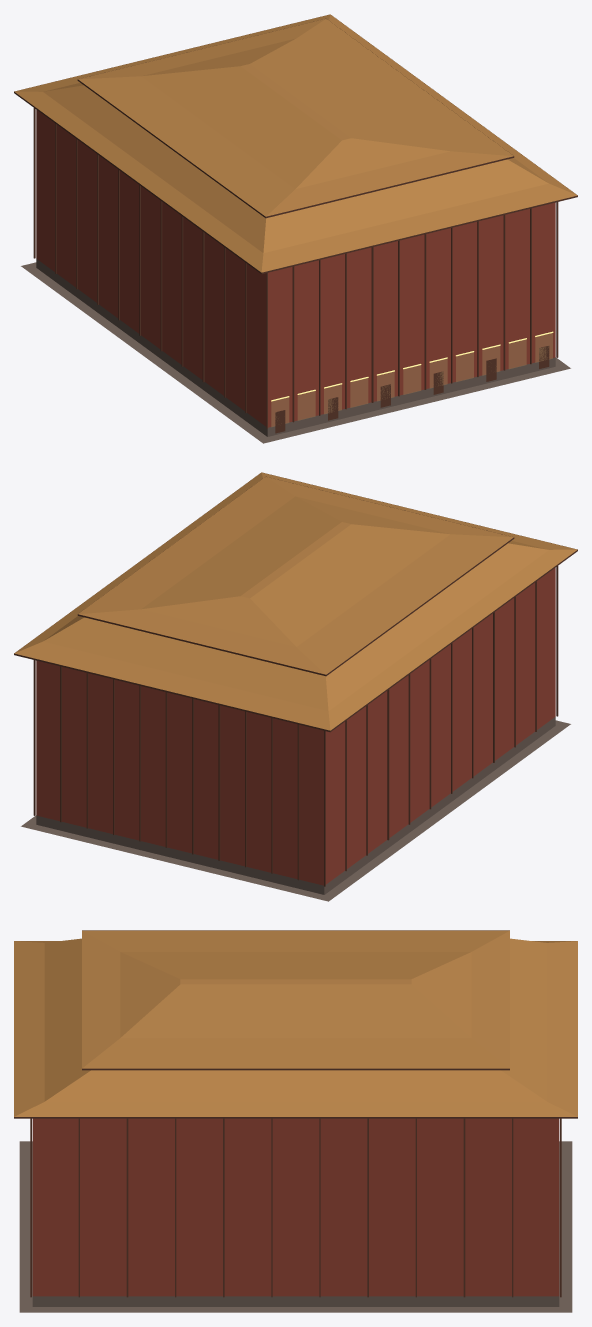
File: shell.glb
3 views of the same model, one above another, from view 1: azimuth 30°, elevation 25°; view 2: azimuth 150°, elevation 25°; view 3: azimuth 270°, elevation 25° (orthographic). The views are drawn at different scales.
Visible parts, largest first — view 1: shell_bowl_mass_cladding, shell_roof_canopy_hip_2, shell_roof_canopy_hip_1, shell_bowl_mass_facade_panels, shell_bowl_mass_suite_glass_lobby, shell_bowl_mass_plinth, shell_field_floor_apron, shell_roof_canopy_fascia, shell_bowl_mass_portal_frames; view 2: shell_bowl_mass_cladding, shell_roof_canopy_hip_2, shell_roof_canopy_hip_1, shell_bowl_mass_facade_panels, shell_bowl_mass_plinth, shell_field_floor_apron, shell_roof_canopy_fascia; view 3: shell_bowl_mass_cladding, shell_roof_canopy_hip_2, shell_roof_canopy_hip_1, shell_field_floor_apron, shell_bowl_mass_plinth, shell_bowl_mass_facade_panels, shell_roof_canopy_fascia.
Boxes of the visible parts, bbox=[...] form: shell_bowl_mass_cladding: bbox=[36, 110, 555, 427]; shell_roof_canopy_hip_2: bbox=[78, 19, 513, 216]; shell_roof_canopy_hip_1: bbox=[14, 14, 577, 272]; shell_bowl_mass_facade_panels: bbox=[33, 108, 558, 428]; shell_bowl_mass_suite_glass_lobby: bbox=[271, 333, 552, 426]; shell_bowl_mass_plinth: bbox=[36, 259, 555, 436]; shell_field_floor_apron: bbox=[21, 262, 570, 443]; shell_roof_canopy_fascia: bbox=[14, 16, 577, 274]; shell_bowl_mass_portal_frames: bbox=[275, 346, 549, 433]; shell_bowl_mass_cladding: bbox=[36, 568, 555, 885]; shell_roof_canopy_hip_2: bbox=[78, 477, 513, 674]; shell_roof_canopy_hip_1: bbox=[14, 472, 577, 730]; shell_bowl_mass_facade_panels: bbox=[33, 566, 558, 886]; shell_bowl_mass_plinth: bbox=[36, 717, 555, 894]; shell_field_floor_apron: bbox=[21, 720, 570, 901]; shell_roof_canopy_fascia: bbox=[14, 474, 577, 732]; shell_bowl_mass_cladding: bbox=[32, 1118, 559, 1296]; shell_roof_canopy_hip_2: bbox=[82, 930, 509, 1068]; shell_roof_canopy_hip_1: bbox=[14, 938, 577, 1116]; shell_field_floor_apron: bbox=[19, 1141, 572, 1312]; shell_bowl_mass_plinth: bbox=[32, 1296, 559, 1306]; shell_bowl_mass_facade_panels: bbox=[30, 1118, 561, 1297]; shell_roof_canopy_fascia: bbox=[14, 930, 577, 1118].
Size of the model in its own units: 42.36 by 27.54 by 57.4.
